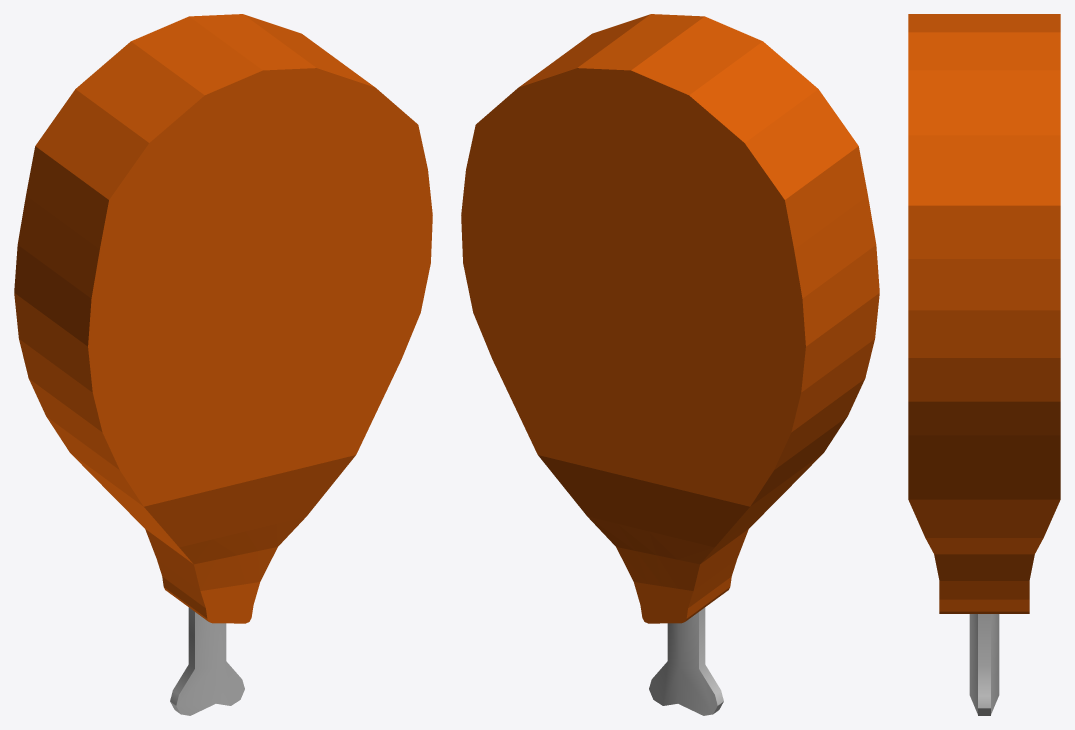
The model's file is chicken_drumstick.fbx.
The picture shows the model from 3 angles, left to right: view 1: azimuth 30°, elevation 25°; view 2: azimuth 150°, elevation 25°; view 3: azimuth 270°, elevation 25°; orthographic projection. The views are drawn at different scales.
Parts seen in each view (by area): view 1: pCube2, pCube1; view 2: pCube2, pCube1; view 3: pCube2, pCube1.
Boxes of the visible parts, x1,y1,x2,y2 form: pCube2: [14, 14, 432, 623]; pCube1: [170, 607, 244, 715]; pCube2: [461, 14, 879, 623]; pCube1: [649, 607, 723, 715]; pCube2: [908, 14, 1060, 613]; pCube1: [969, 614, 999, 715].
Size of the model in its own units: 0.4516 by 0.8271 by 0.1676.
